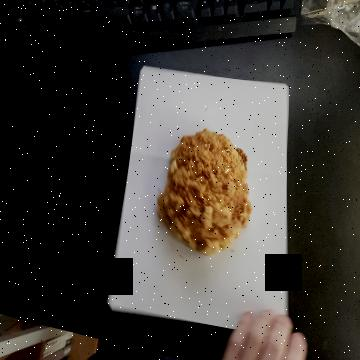soboru_bread: (154, 130, 252, 258)
